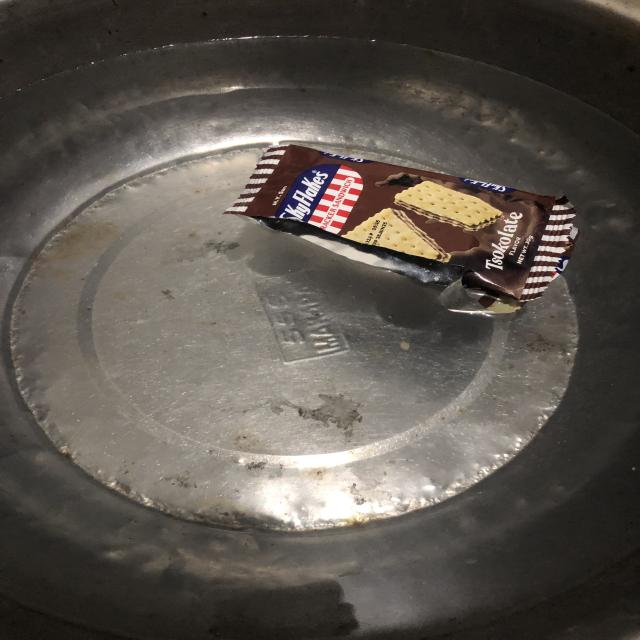Plastic Wrapper: (208, 113, 610, 338)
